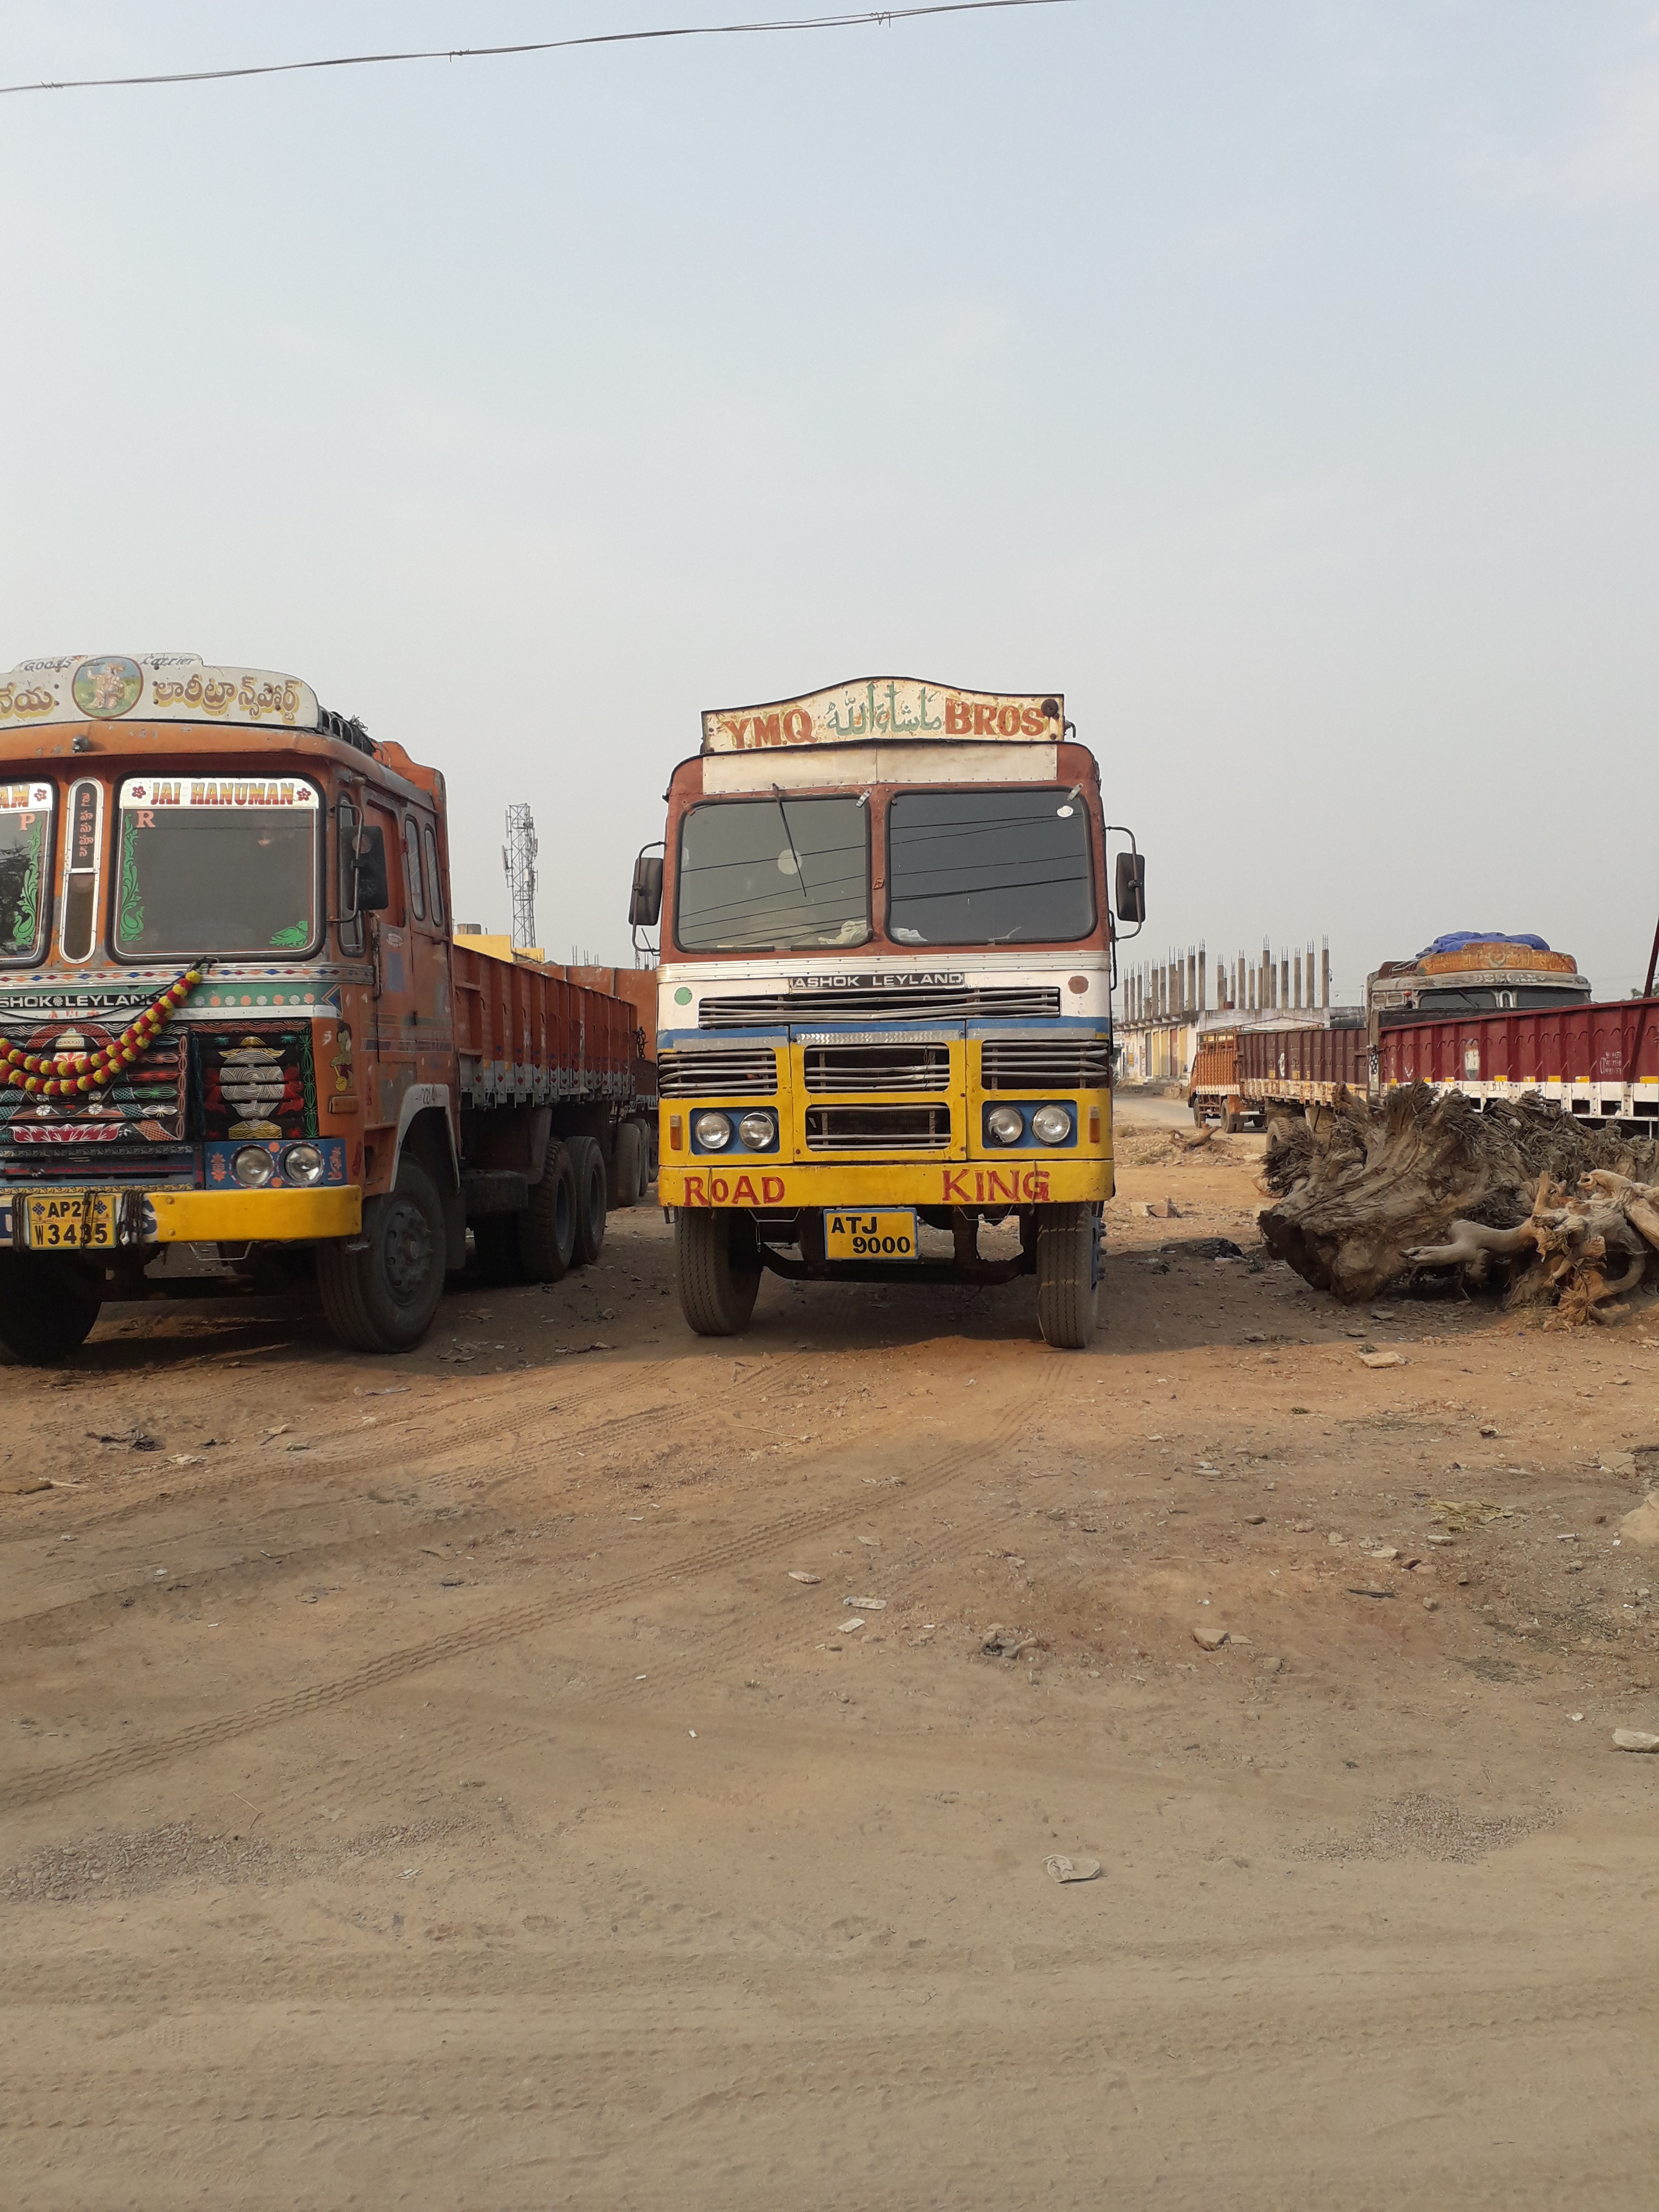truck: (0, 646, 650, 1359), (626, 671, 1147, 1352), (1230, 930, 1593, 1155), (1364, 909, 1659, 1143), (509, 956, 660, 1209)
